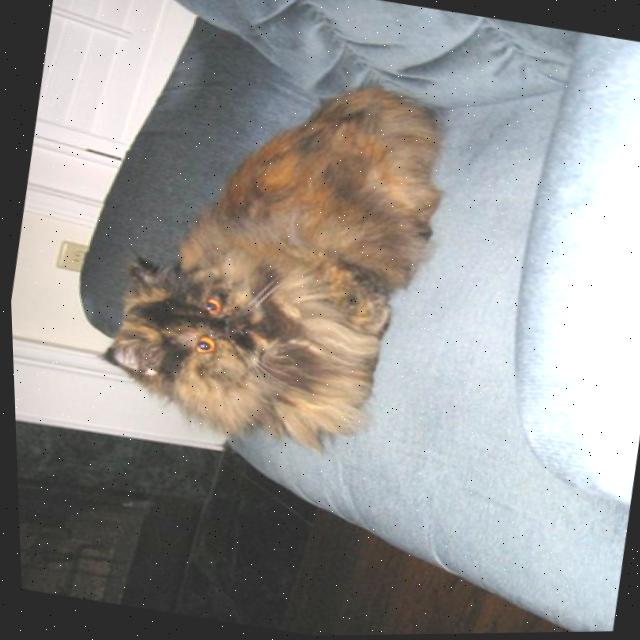Persian: (72, 44, 465, 469)
